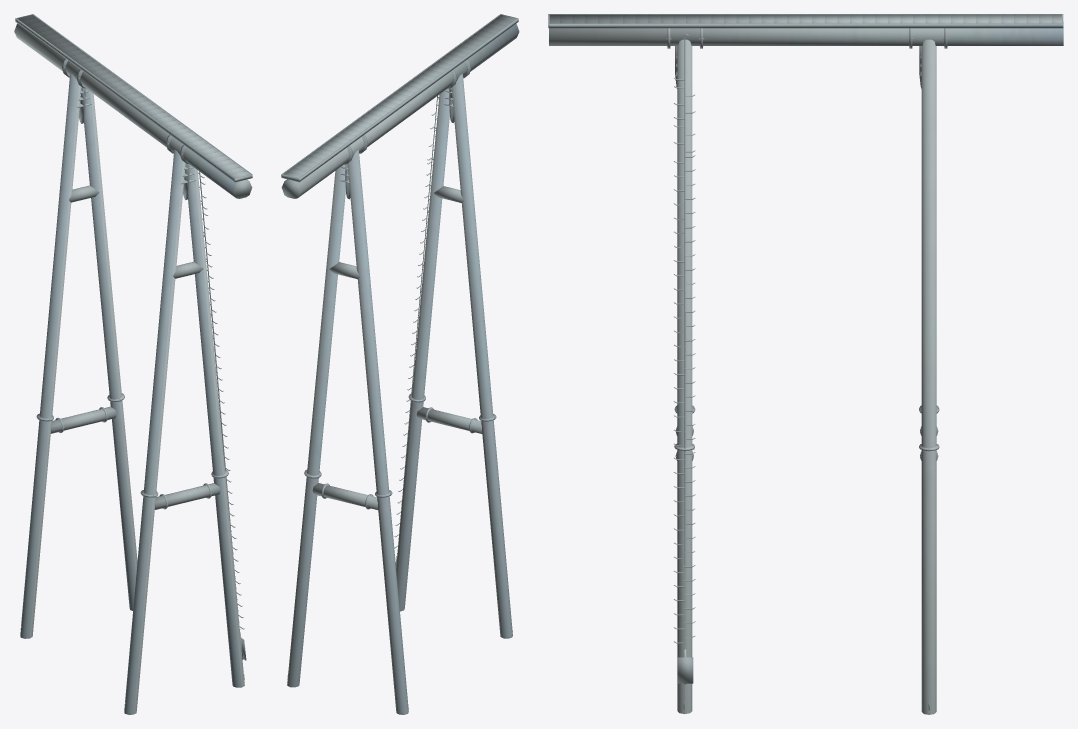
The picture shows the model from 3 angles, left to right: view 1: azimuth 30°, elevation 25°; view 2: azimuth 150°, elevation 25°; view 3: azimuth 270°, elevation 25°; orthographic projection. The views are drawn at different scales.
Visible parts, largest first — view 1: lizonghua16, lizonghua17; view 2: lizonghua16, lizonghua17; view 3: lizonghua16, lizonghua17.
Part boxes in pixels (x1,y1,x2,y2): lizonghua16: [14, 14, 252, 714]; lizonghua17: [17, 14, 250, 178]; lizonghua16: [281, 14, 519, 714]; lizonghua17: [283, 14, 516, 177]; lizonghua16: [548, 14, 1063, 714]; lizonghua17: [549, 14, 1061, 23].
Bounding box in the file's own units: 14.02 × 62.51 × 44.04.
Materials: 1 (1 with a texture image).
